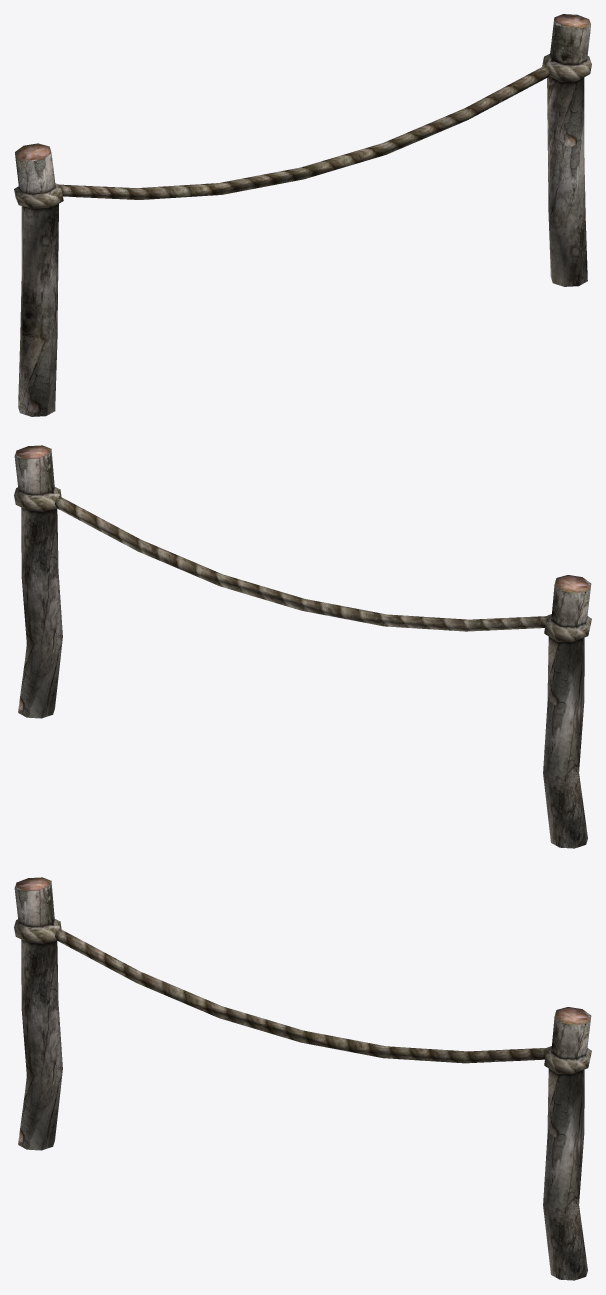
The model's file is rope_fence_lod1.glb.
The picture shows the model from 3 angles, top to bottom: view 1: azimuth 30°, elevation 25°; view 2: azimuth 150°, elevation 25°; view 3: azimuth 330°, elevation 25°; orthographic projection.
Visible parts, largest first — view 1: rope_fence; view 2: rope_fence; view 3: rope_fence.
Boxes of the visible parts, <box> form: rope_fence: <box>14,14,591,416</box>; rope_fence: <box>14,445,591,848</box>; rope_fence: <box>14,877,591,1280</box>.
Bounding box in the file's own units: 2.31 × 1 × 0.1769.
2 materials, 2 textured.
